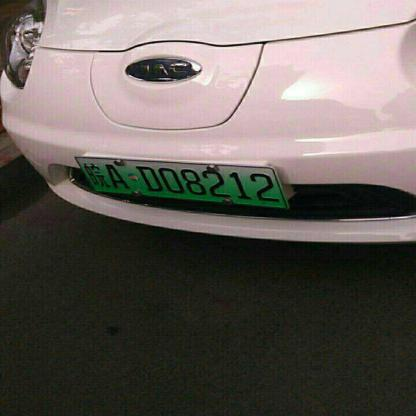lp: (73, 156, 289, 208)
